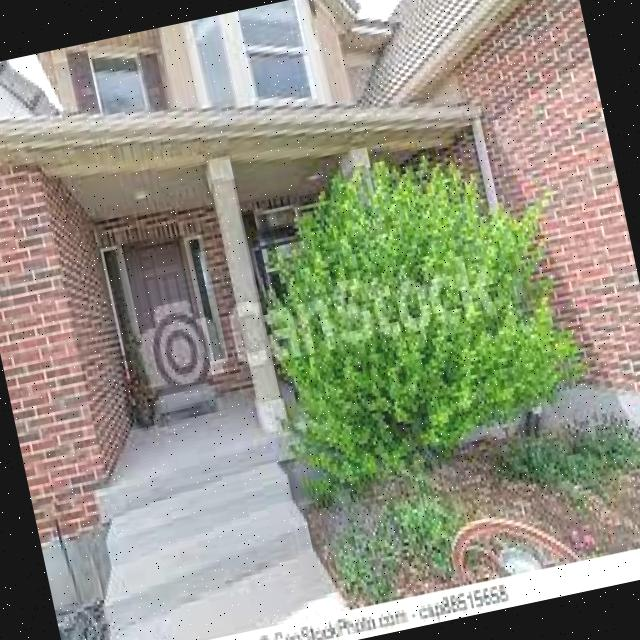stairs: (146, 374, 218, 426)
